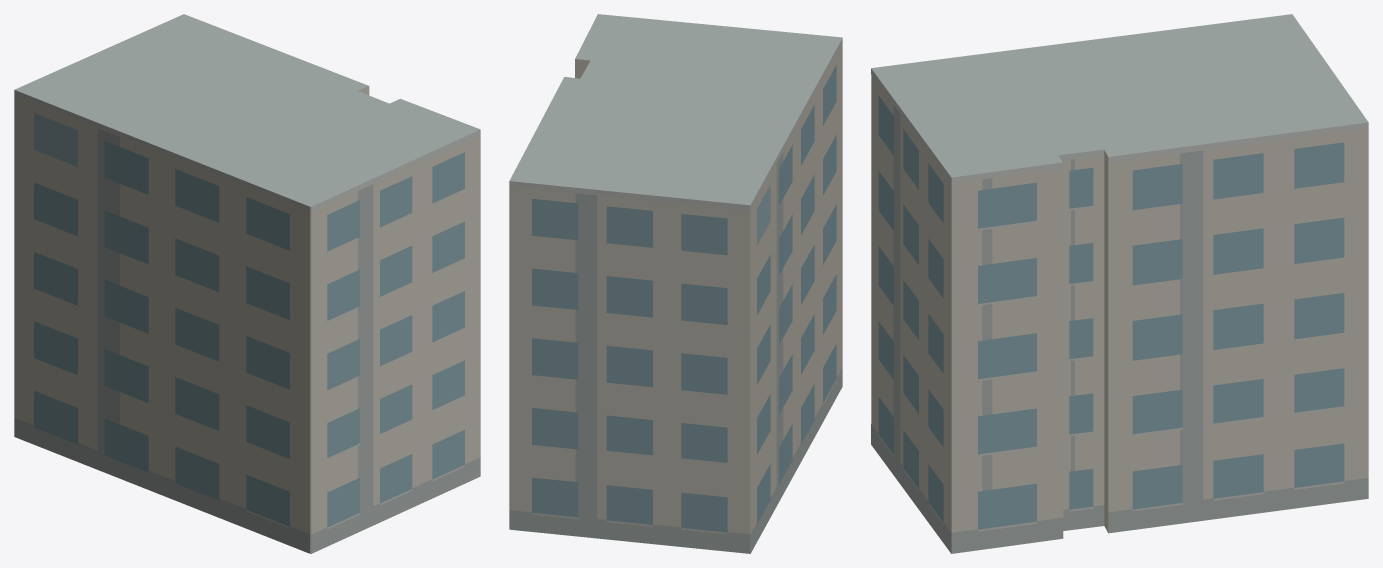
File: survey-upis-32837433.glb
3 views of the same model, side by side, from view 1: azimuth 30°, elevation 25°; view 2: azimuth 150°, elevation 25°; view 3: azimuth 270°, elevation 25° (orthographic). The views are drawn at different scales.
Parts seen in each view (by area): view 1: survey-upis-32837433.tmp; view 2: survey-upis-32837433.tmp; view 3: survey-upis-32837433.tmp.
Boxes of the visible parts, left/top/right/bottom form: survey-upis-32837433.tmp: left=14, top=14, right=480, bottom=553; survey-upis-32837433.tmp: left=509, top=14, right=842, bottom=553; survey-upis-32837433.tmp: left=871, top=14, right=1368, bottom=553.
Bounding box in the file's own units: 14.23 × 15.25 × 18.28.
